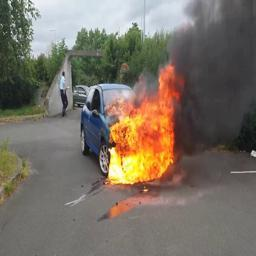fire: (106, 62, 185, 184)
